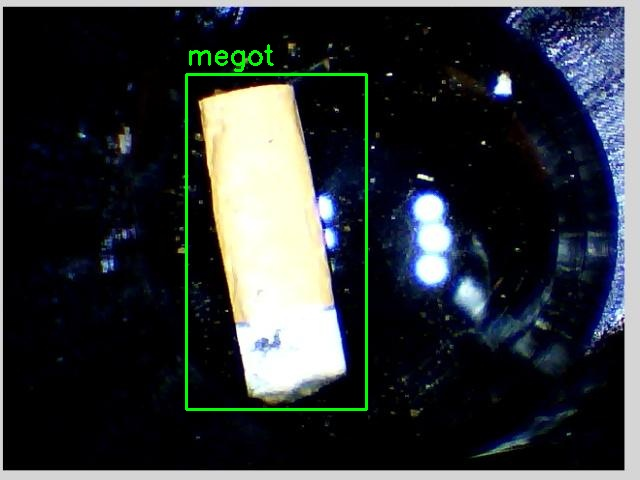megot: (186, 74, 366, 409)
